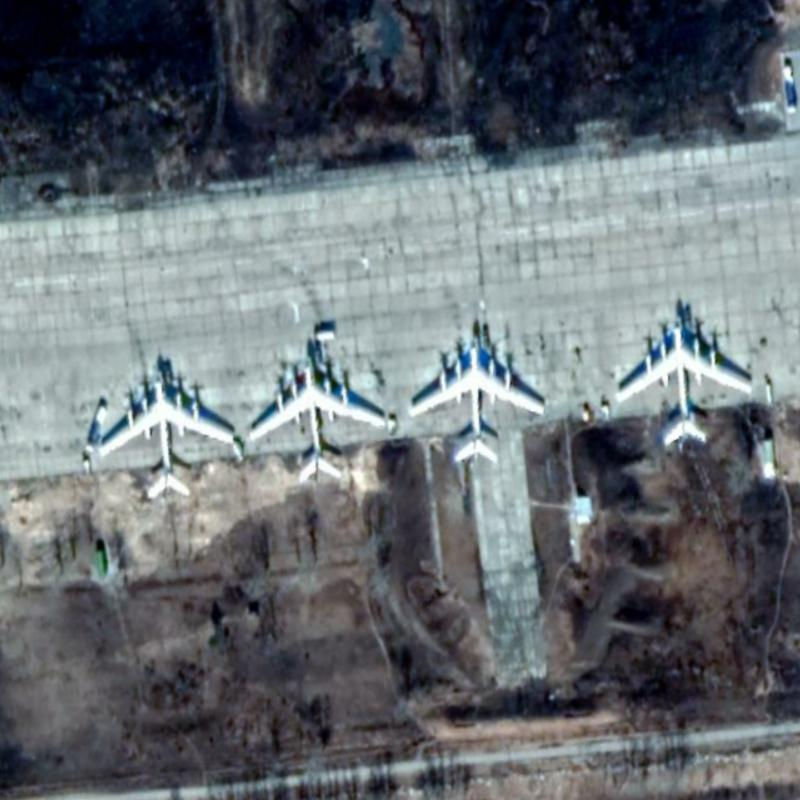A17: (613, 318, 754, 447), (407, 334, 546, 464), (245, 356, 387, 483), (94, 373, 235, 500)
